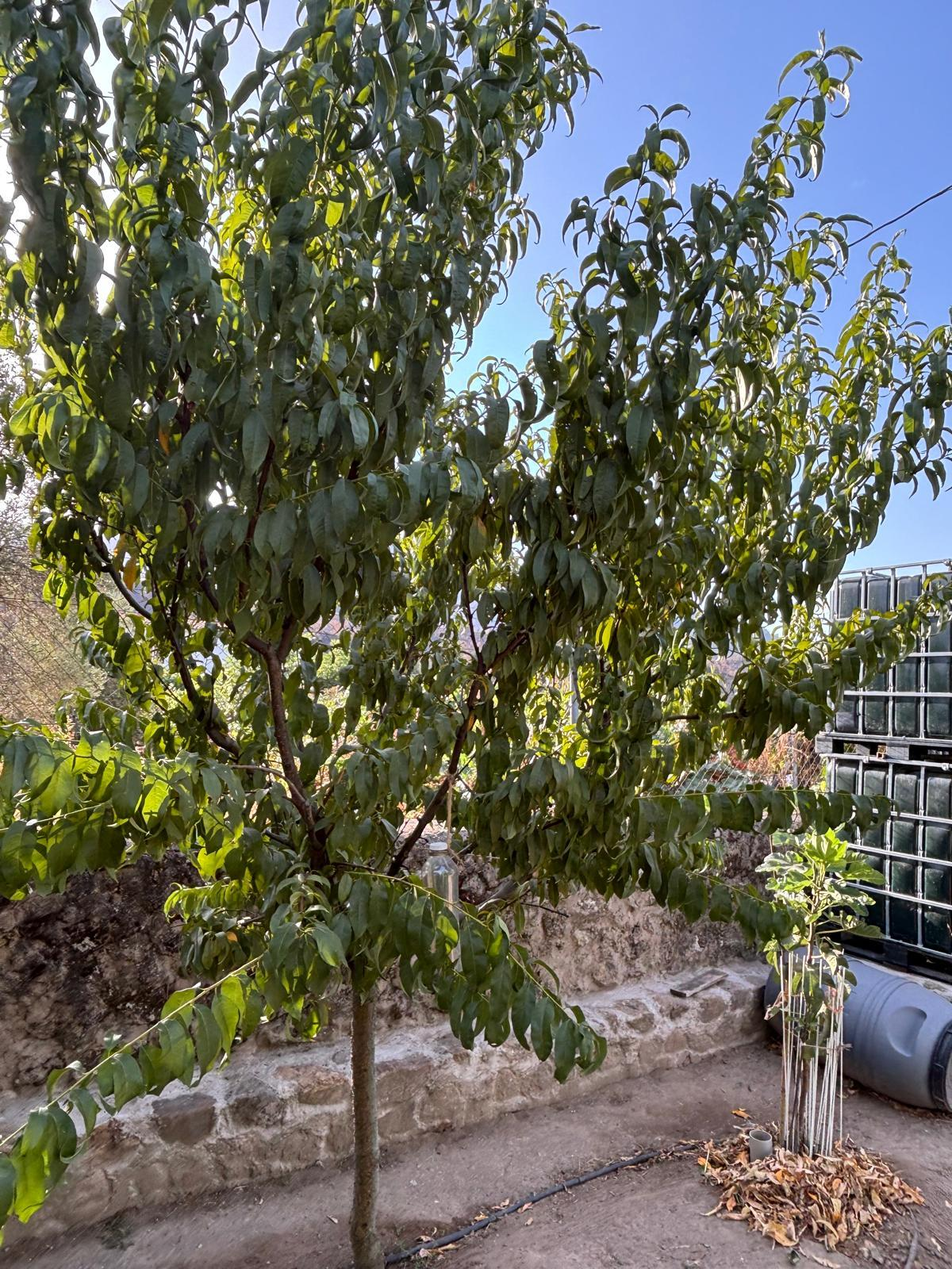nectarino: (26, 85, 711, 1257)
